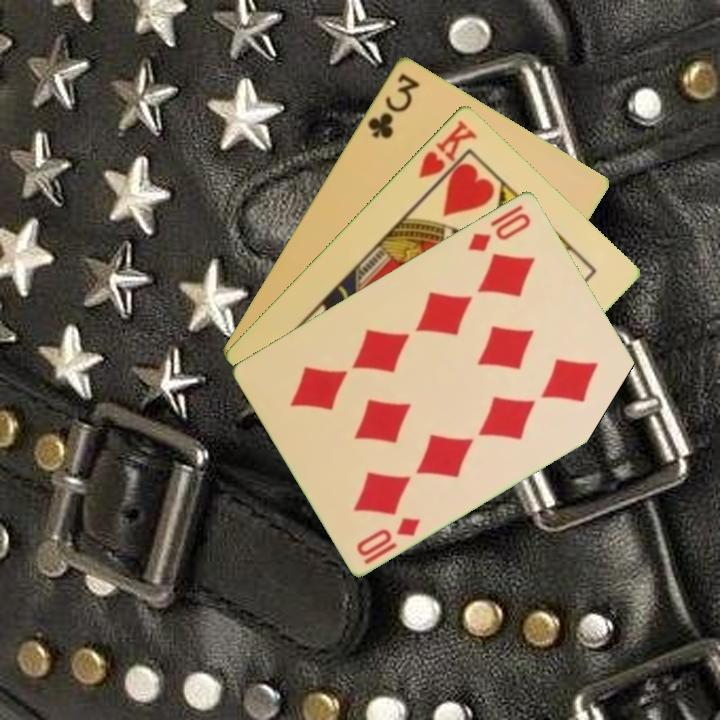10d: (352, 513, 424, 567), (464, 200, 534, 255)
3c: (363, 69, 423, 142)
Kh: (414, 116, 480, 194)
